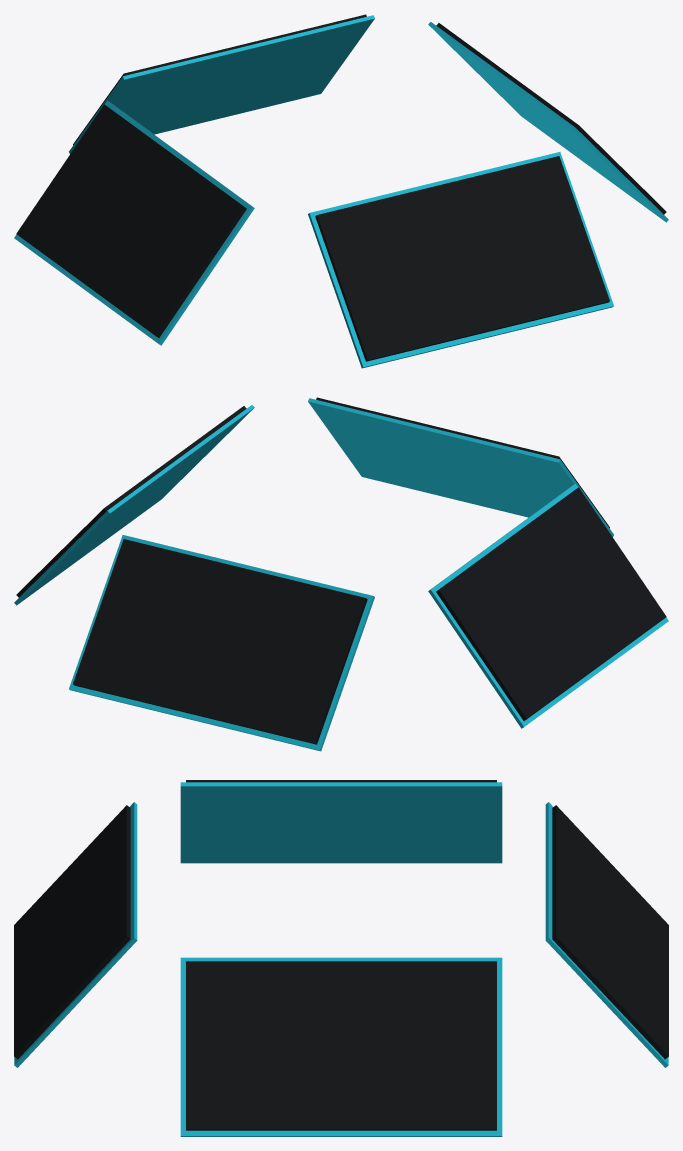
The model's file is n2_array.obj.
3 views of the same model, one above another, from view 1: azimuth 30°, elevation 25°; view 2: azimuth 150°, elevation 25°; view 3: azimuth 270°, elevation 25° (orthographic). The views are drawn at different scales.
Visible parts, largest first — view 1: n2_array; view 2: n2_array; view 3: n2_array.
Boxes of the visible parts, <box> form: n2_array: <box>14,14,668,368</box>; n2_array: <box>14,397,668,751</box>; n2_array: <box>14,780,668,1136</box>.
Size of the model in its own units: 1.81 by 0.3972 by 1.81.
